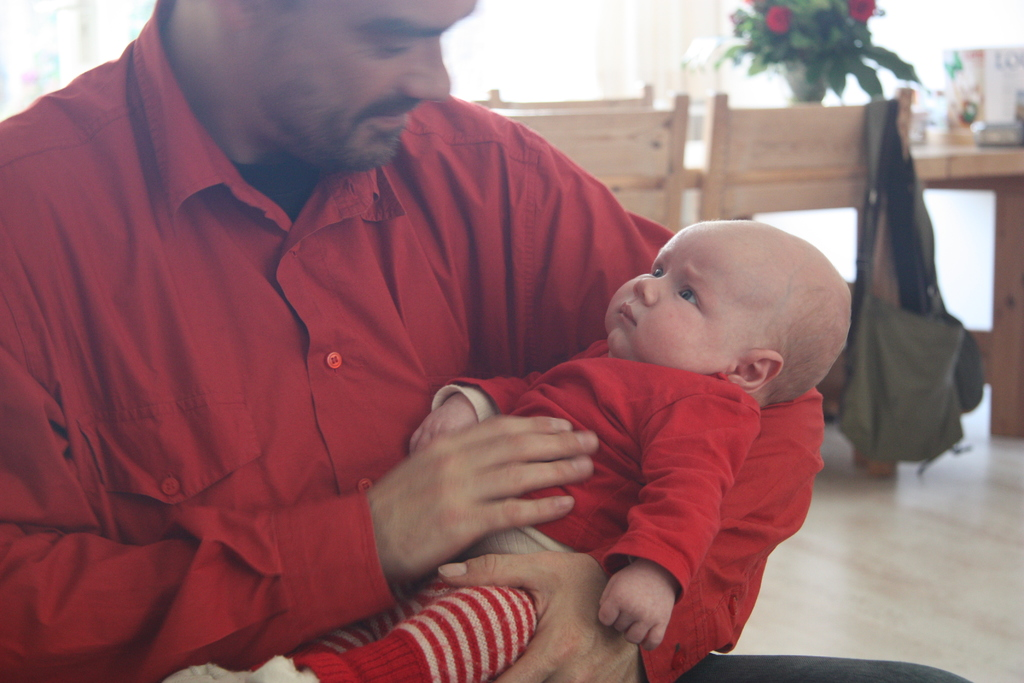Human_hand: (365, 415, 600, 584), (436, 550, 646, 682), (598, 562, 675, 650), (410, 399, 478, 453)
